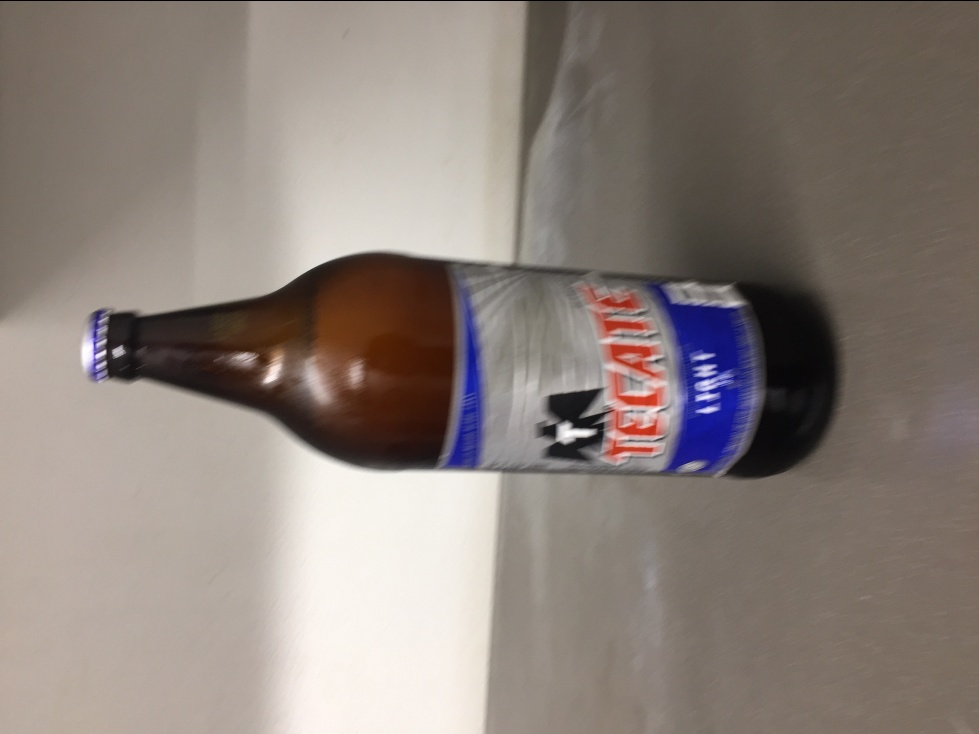tecateC: (77, 249, 842, 476)
